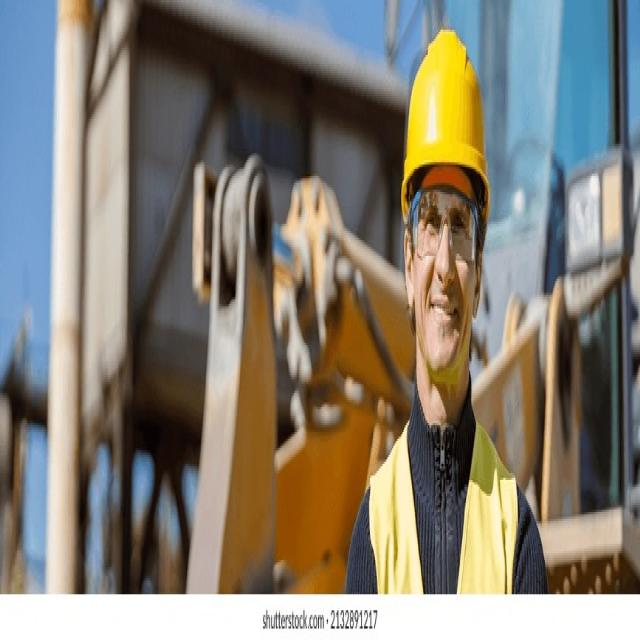goggles: (402, 179, 482, 265)
helmet: (400, 23, 490, 232)
vest: (367, 419, 519, 596)
